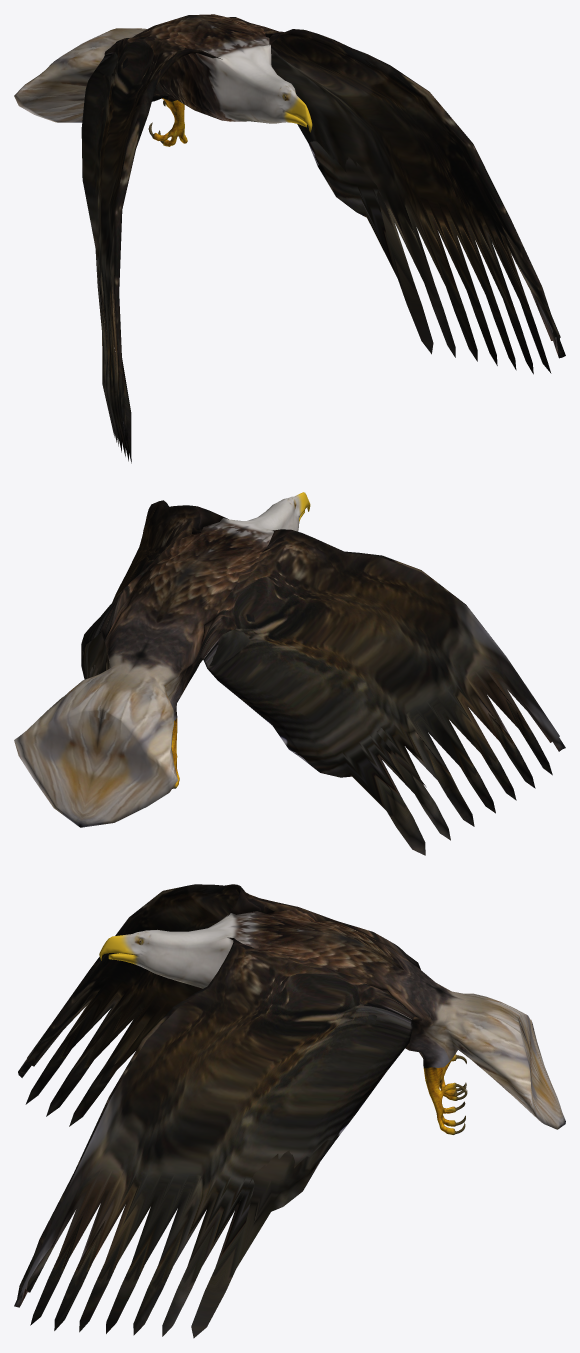
File: Eagle-original_000087.obj
3 renders of one model, top to bottom at view 1: azimuth 30°, elevation 25°; view 2: azimuth 150°, elevation 25°; view 3: azimuth 270°, elevation 25°, orthographic. The views are drawn at different scales.
Visible parts, largest first — view 1: Flugel_Plane.003; view 2: Flugel_Plane.003; view 3: Flugel_Plane.003.
Part boxes in pixels (left/top/right/bottom): Flugel_Plane.003: left=14, top=14, right=565, bottom=463; Flugel_Plane.003: left=14, top=492, right=565, bottom=855; Flugel_Plane.003: left=14, top=884, right=565, bottom=1338.
Bounding box in the file's own units: 6.03 × 4.5 × 6.59.
1 material, 1 textured.
